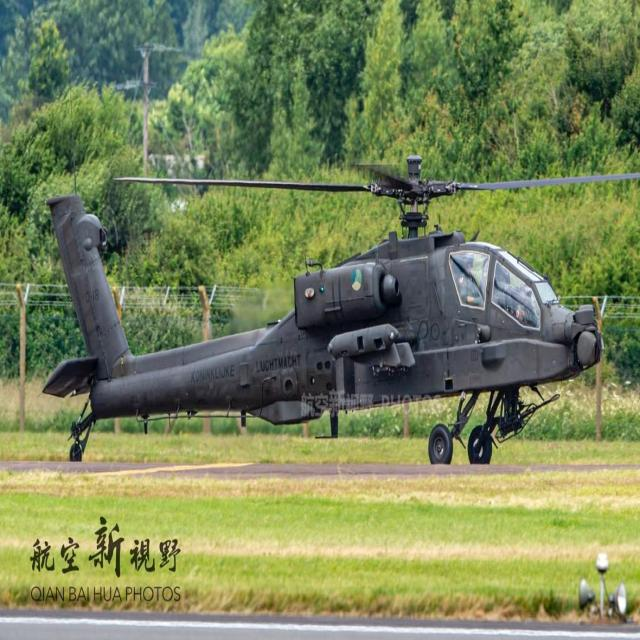MIL_HELO: (18, 99, 640, 475)
